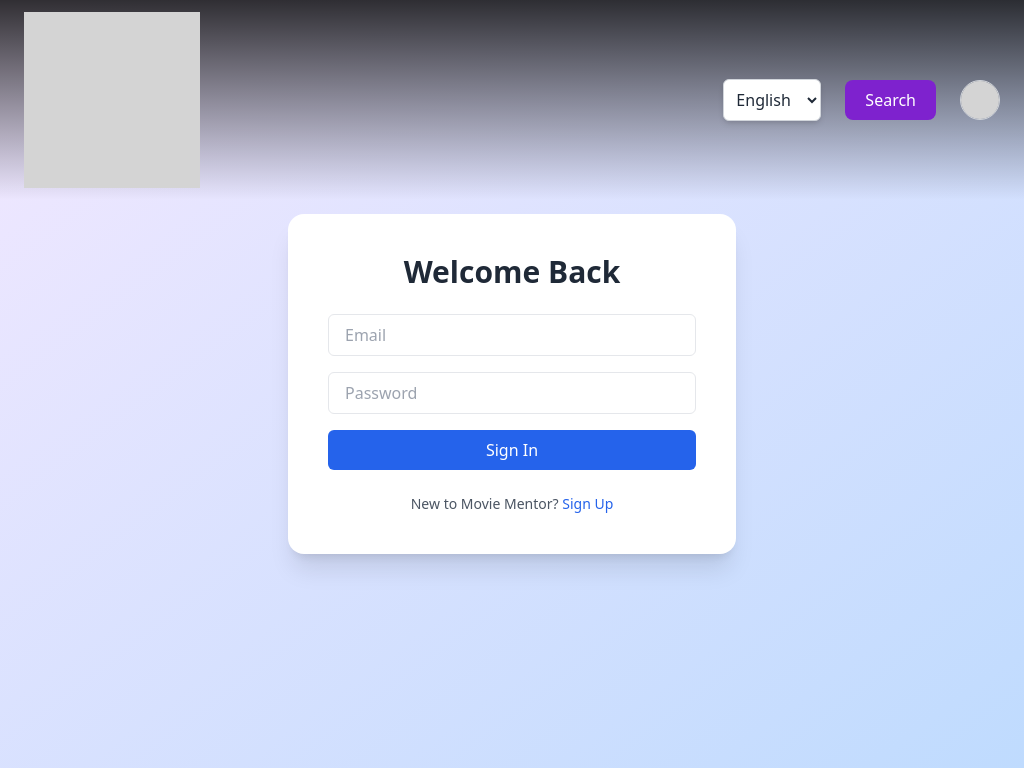
Scenario: Login Component › Sign In flow › shows error message for short password
Type "test@example.com" into the field with placeholder "Email".
click(512, 335); type("test@example.com")  # box [328, 314, 696, 356]
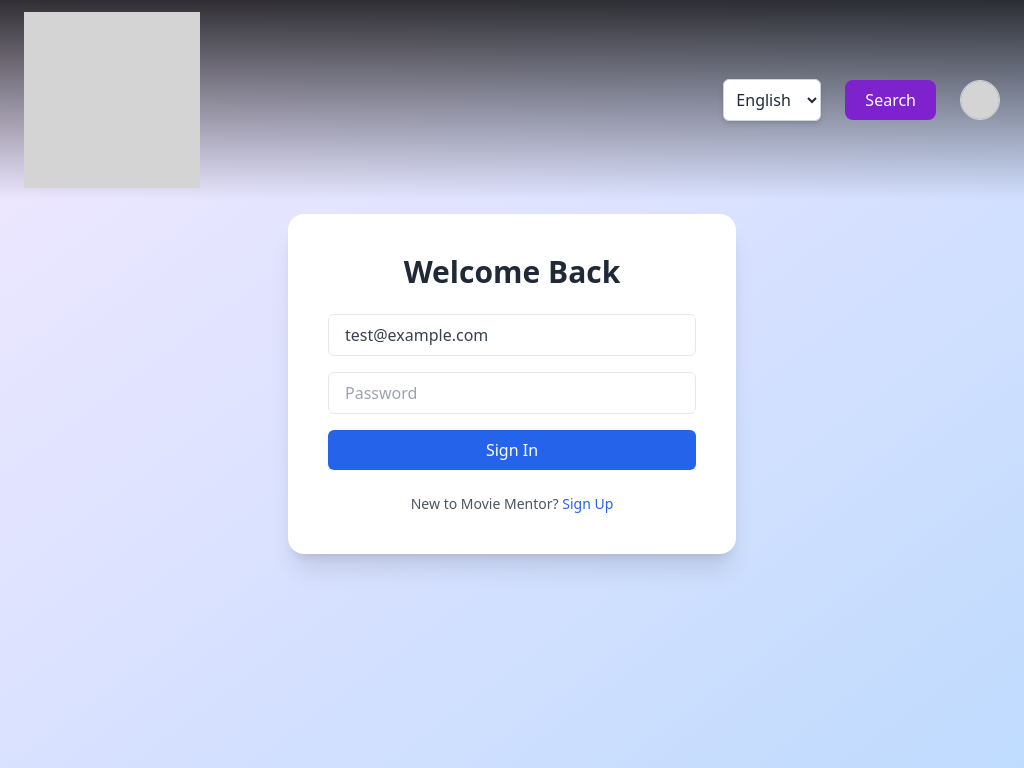
Type "12" into the password field with placeholder "Password".
click(512, 393); type("12")  # box [328, 372, 696, 414]
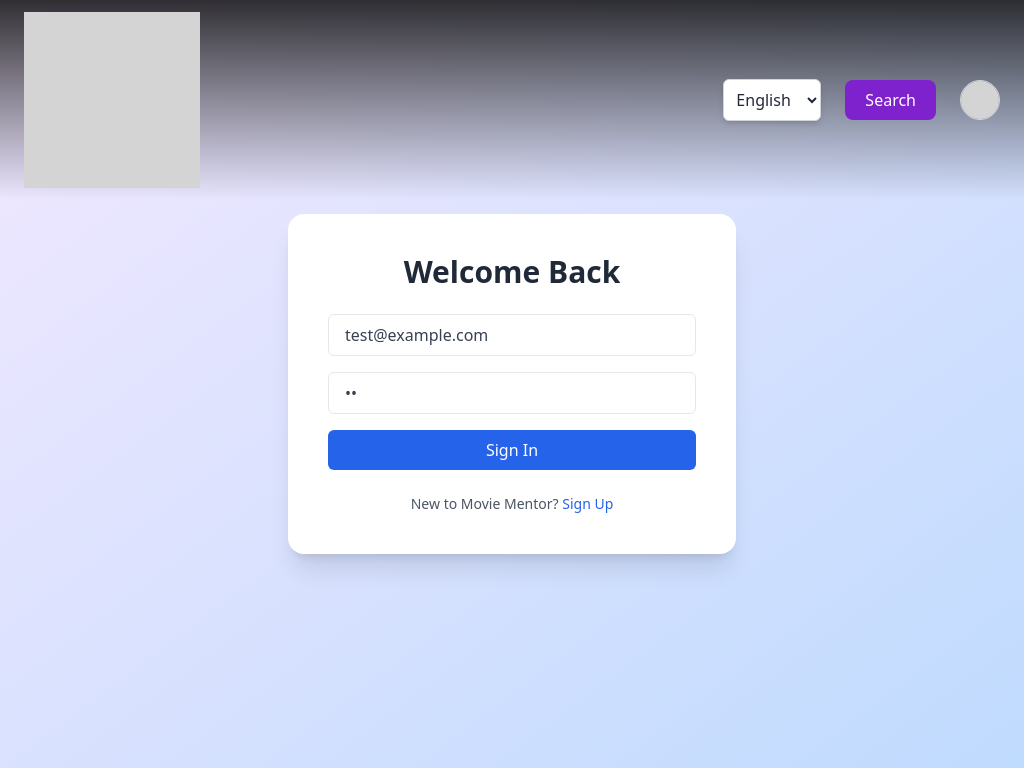
Click the button "Sign In".
click(512, 450)  # box [328, 430, 696, 470]
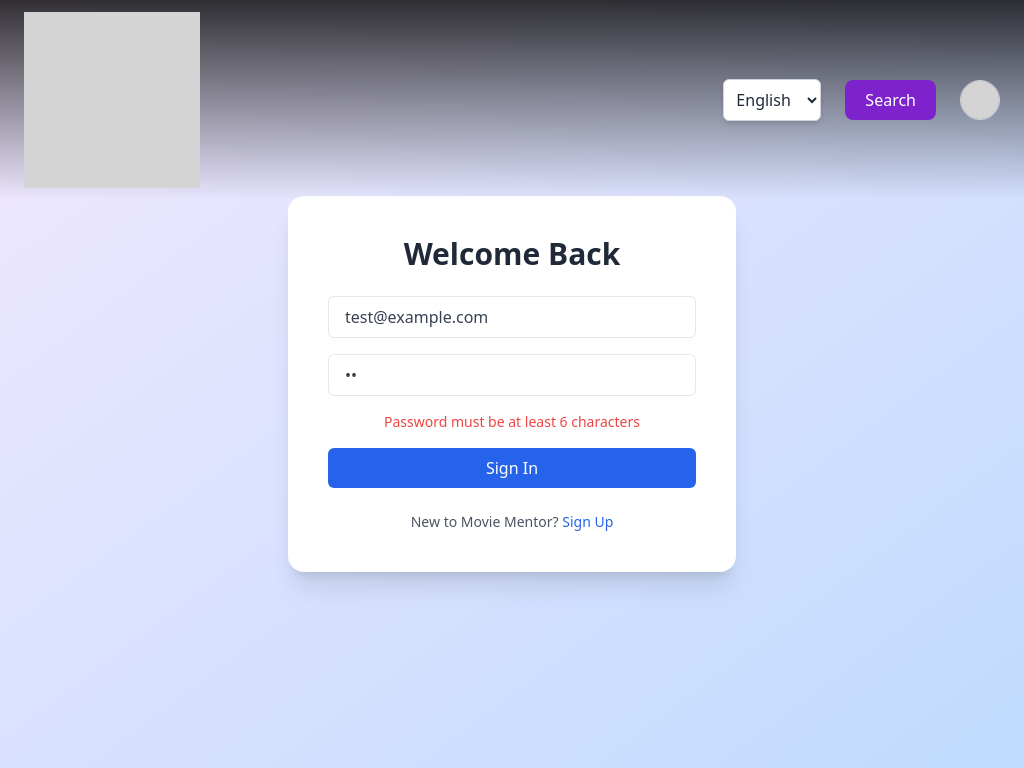
Now the text "Password must be at least 6 characters" is shown, box [384, 412, 640, 431]
